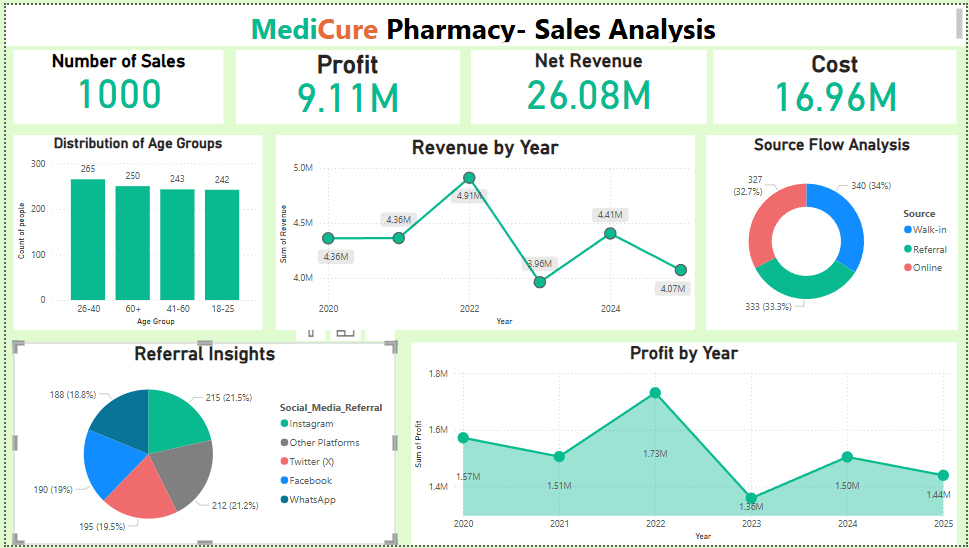

Layout of this report page (visuals, bound fields, positions):
{"tool":"powerbi","page":{"name":"Page 1","canvas":[1280,720],"ordinal":0},"visuals":[{"type":"card","title":"Number of Sales","fields":{"Values":["CountNonNull(Sheet1.Primary_Key)"]},"box":[10,60,280,98.2],"z":0},{"type":"card","title":"Profit","fields":{"Values":["Sum(Sheet1.Profit)"]},"box":[306,60,298,98],"z":1000},{"type":"card","title":"Net Revenue","fields":{"Values":["Sum(Sheet1.Net_Revenue)"]},"box":[620,60,314,98],"z":2000},{"type":"card","title":"Cost","fields":{"Values":["Sum(Sheet1.Cost)"]},"box":[944,60,324,98],"z":3000},{"type":"columnChart","title":"Distribution of Age Groups","fields":{"Category":["Sheet1.Customer_Age_Group"],"Y":["CountNonNull(Sheet1.Customer_Age_Group)"]},"box":[10,174,332,260],"z":4000},{"type":"pieChart","title":"Referral Insights","fields":{"Category":["Sheet1.Social_Media_Referral"],"Y":["CountNonNull(Sheet1.Social_Media_Referral)"]},"box":[10,450,510,270],"z":5000},{"type":"lineChart","title":"Revenue by Year","fields":{"Y":["Sum(Sheet1.Net_Revenue)"],"Category":["Sheet1.Year"]},"box":[360,174,558,260],"z":6000},{"type":"donutChart","title":"Source Flow Analysis","fields":{"Category":["Sheet1.Source"],"Y":["CountNonNull(Sheet1.Source)"]},"box":[934,174,336,260],"z":7000},{"type":"stackedAreaChart","title":"Profit by Year","fields":{"Y":["Sum(Sheet1.Profit)"],"Category":["Sheet1.Year"]},"box":[540,450,728,270],"z":8000},{"type":"textbox","box":[0,0,1280,54.4],"z":8001}]}

Visuals, with their boxes in screenshot pixels (x1, y1, x2, y2), scaled from the page's 1280x720 canvas onto the 969x548 screenshot:
"Number of Sales" card: (x1=8, y1=46, x2=220, y2=120)
"Profit" card: (x1=232, y1=46, x2=457, y2=120)
"Net Revenue" card: (x1=469, y1=46, x2=707, y2=120)
"Cost" card: (x1=715, y1=46, x2=960, y2=120)
"Distribution of Age Groups" columnChart: (x1=8, y1=132, x2=259, y2=330)
"Referral Insights" pieChart: (x1=8, y1=342, x2=394, y2=547)
"Revenue by Year" lineChart: (x1=273, y1=132, x2=695, y2=330)
"Source Flow Analysis" donutChart: (x1=707, y1=132, x2=961, y2=330)
"Profit by Year" stackedAreaChart: (x1=409, y1=342, x2=960, y2=547)
textbox: (x1=0, y1=0, x2=968, y2=41)
